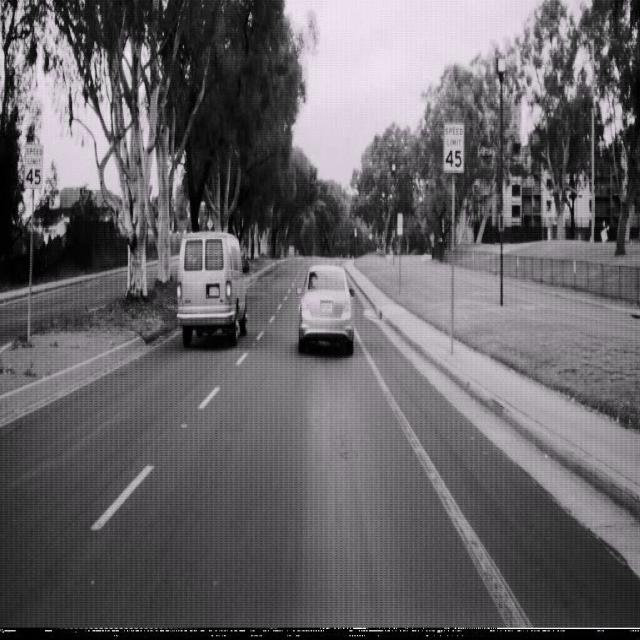speedLimit45: (444, 120, 464, 173), (23, 141, 44, 190)
